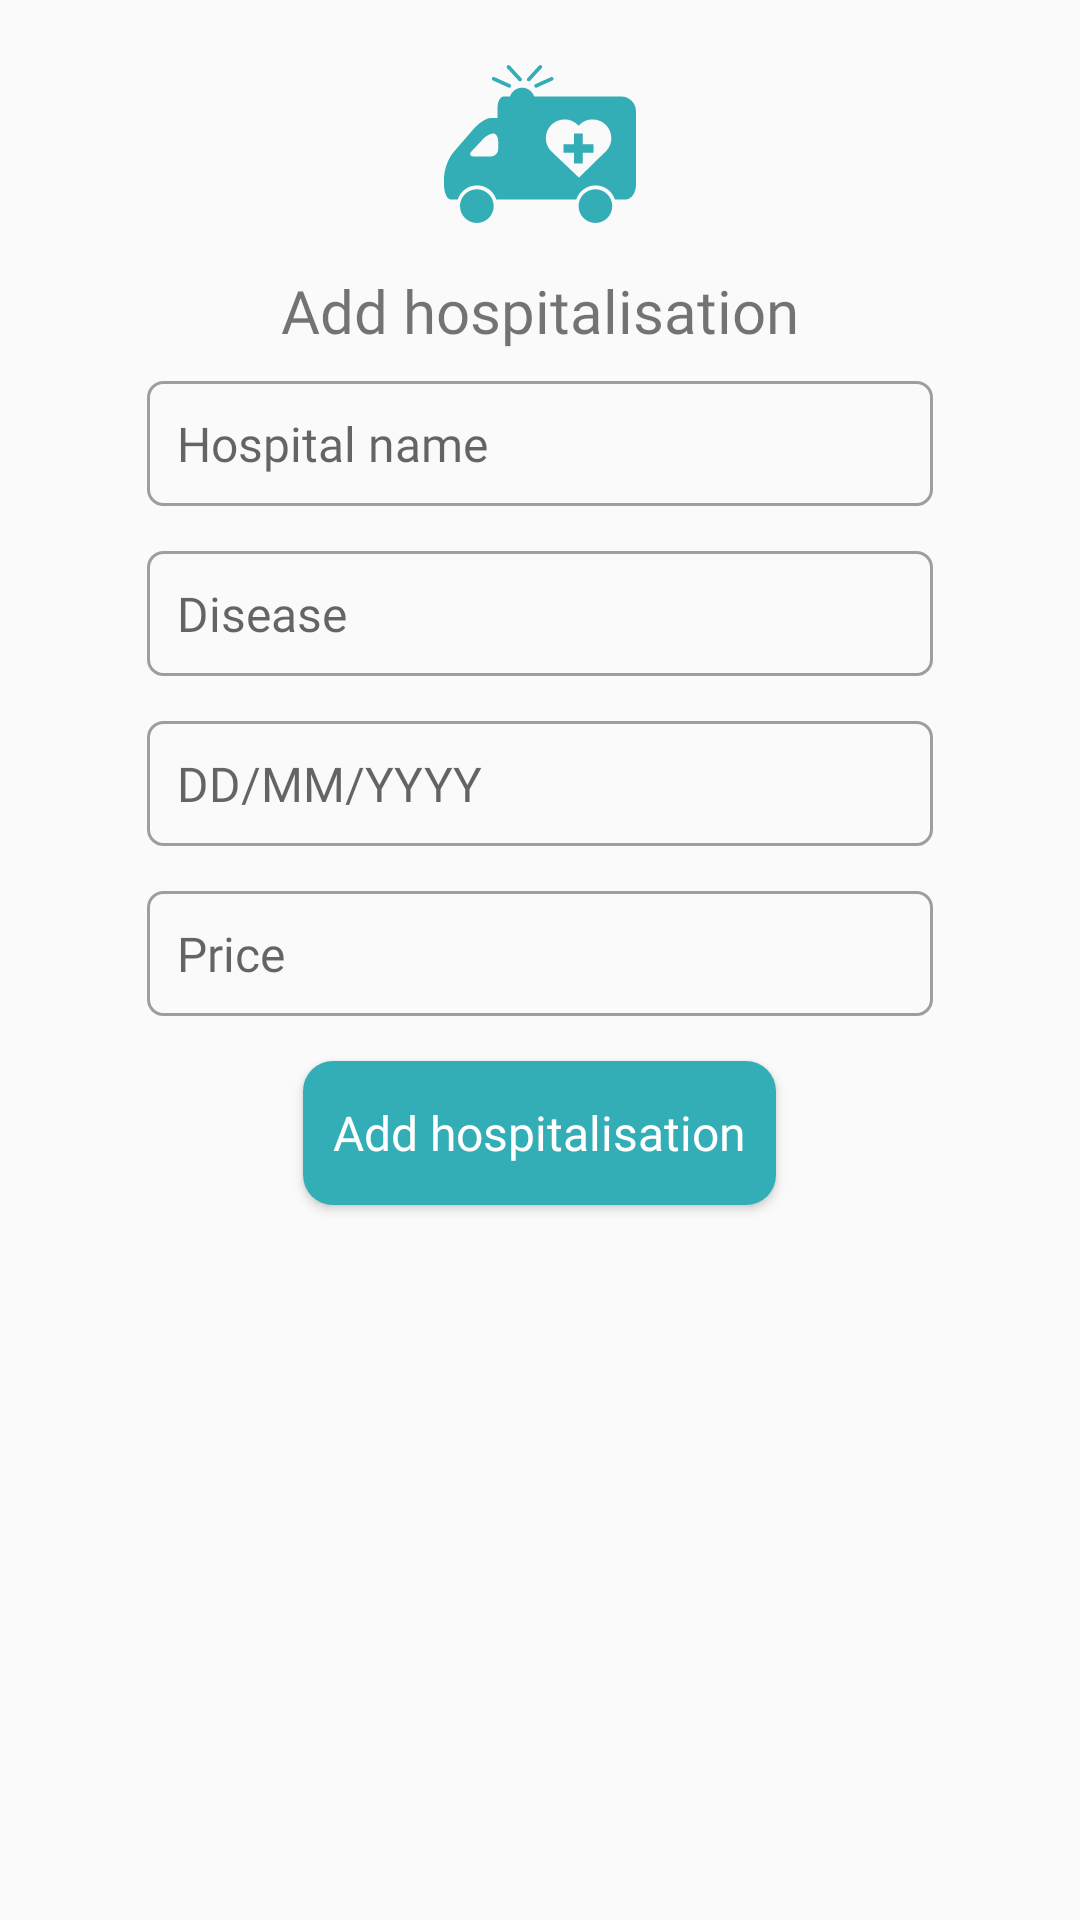

Named icons in this screenshot (1080*1920) and their bounding boxes, (x1, y1, x2, y2):
ambulance: (444, 65, 636, 223)
